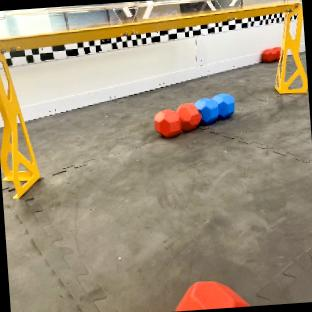V5_BLUE: (195, 94, 233, 123)
V5_RED: (176, 281, 245, 310), (154, 103, 200, 137), (262, 47, 280, 61)
